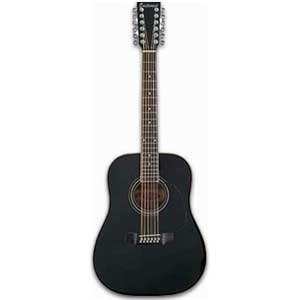guitar: (93, 2, 207, 298)
